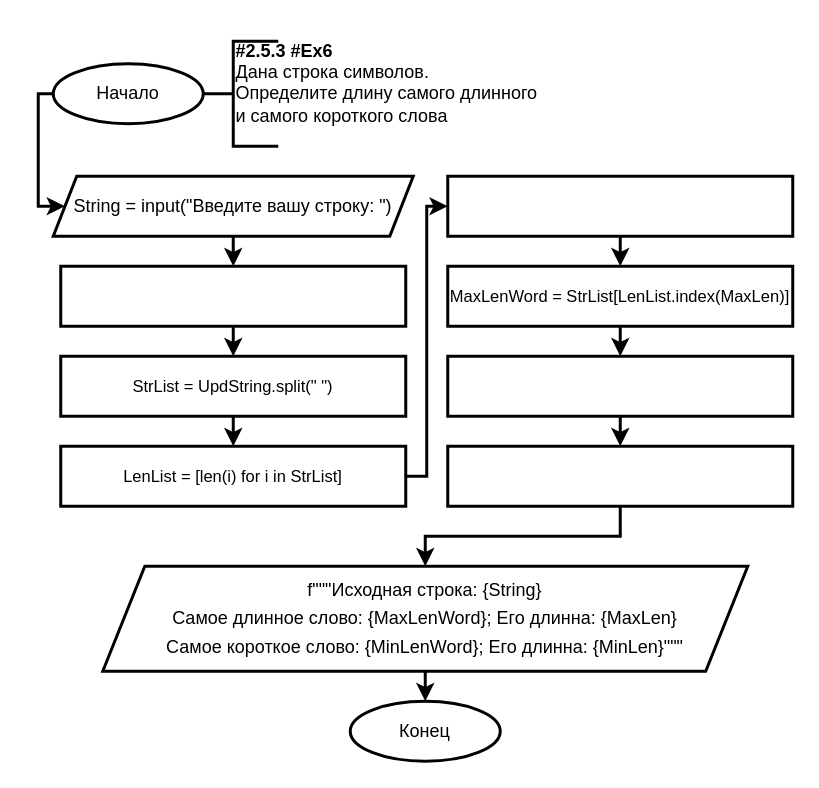
This 819x788 diagram has some shape labels left out. The shapes that lost their labels are listed below. From the top down, each one's centre as x and y in pixels, then its label:
point 620,205: MaxLen = max(LenList)
point 232,295: UpdString = String.translate( str.maketrans("", "", s.punctuation))
point 620,385: MinLen = min(LenList)
point 620,475: MinLenWord = StrList[LenList.index(MinLen)]
